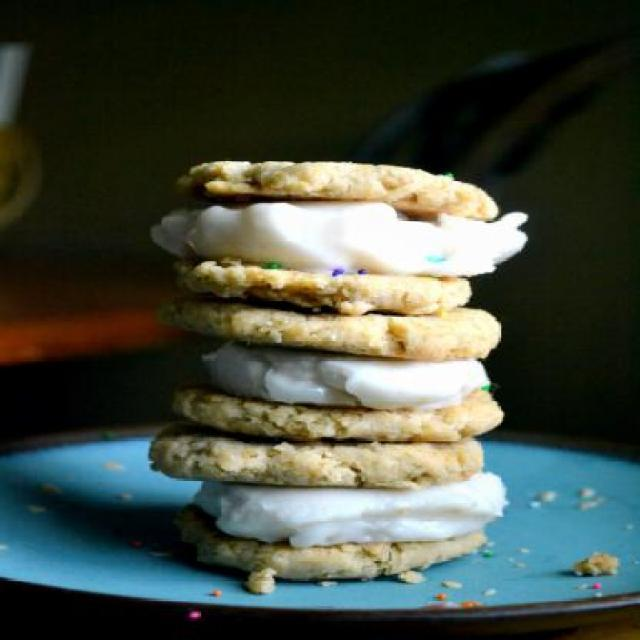Cookie: (142, 156, 533, 584)
